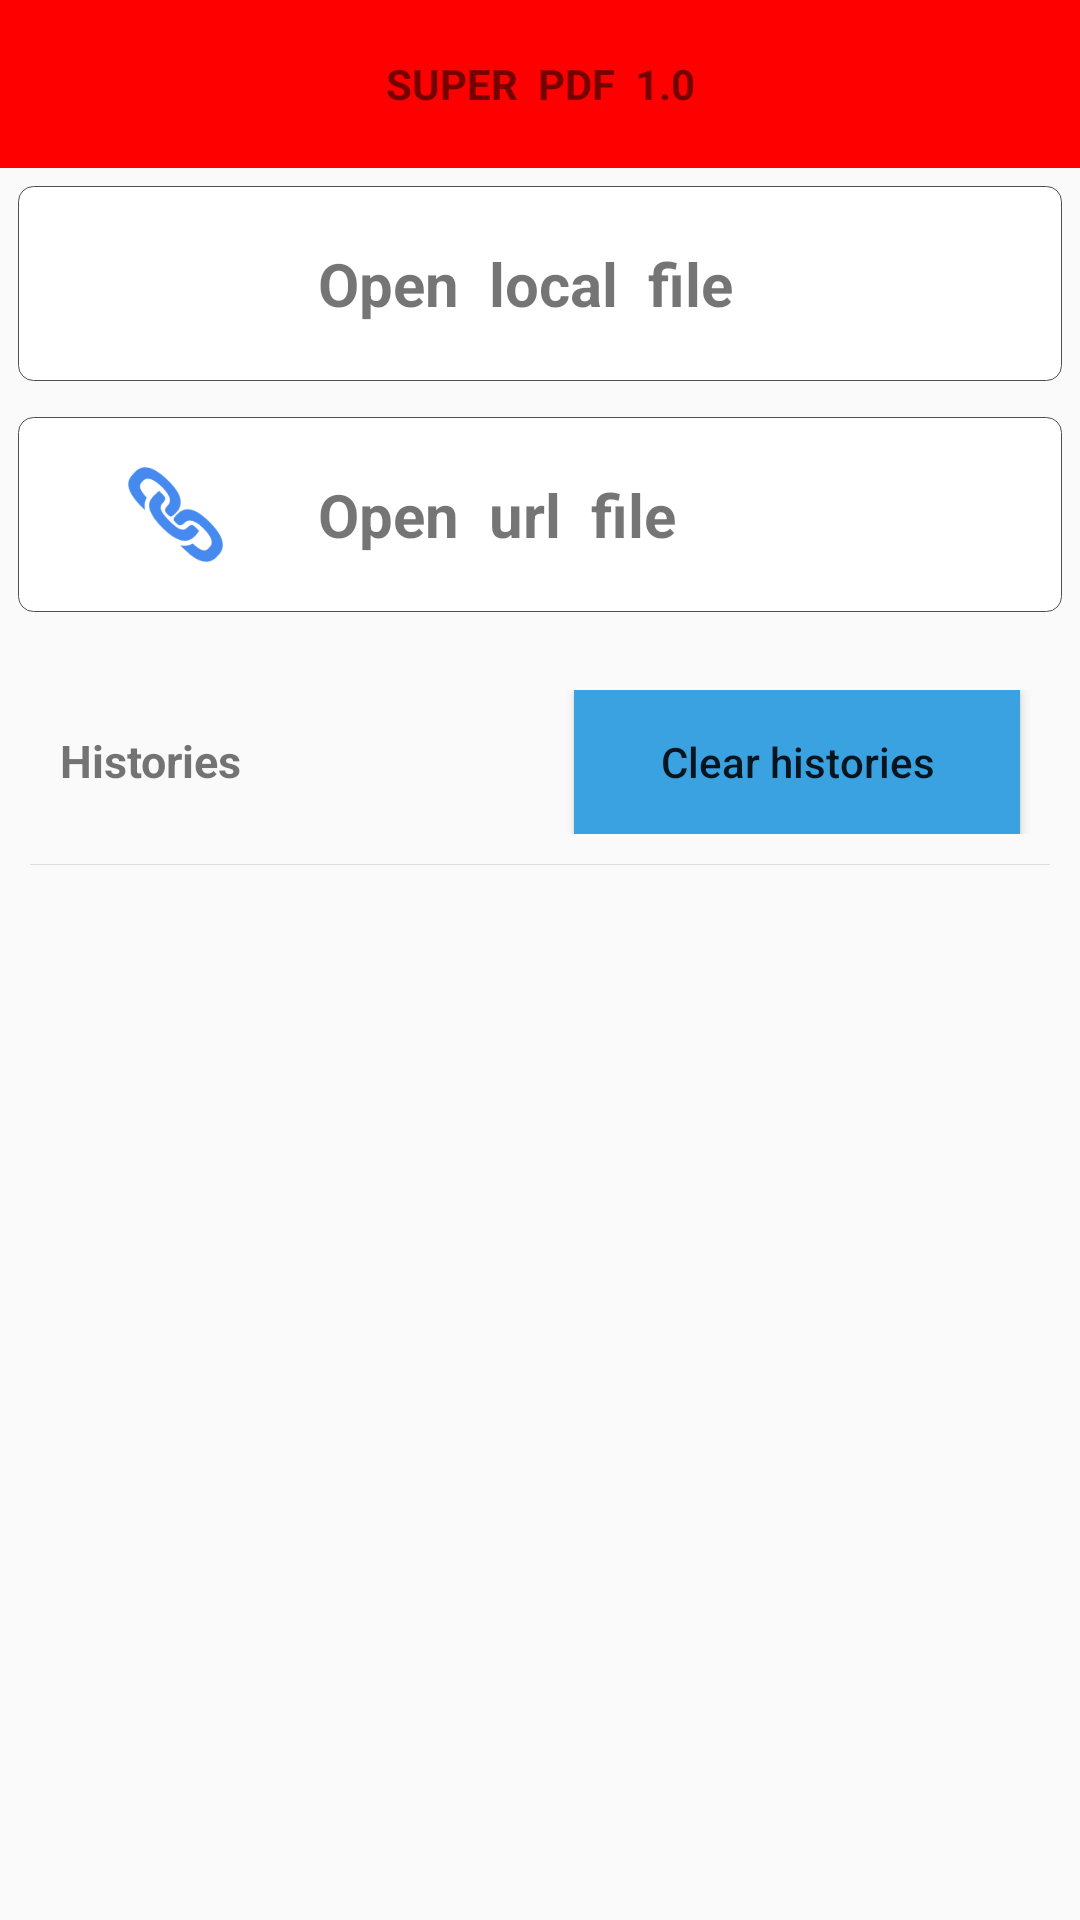

Named icons in this screenshot (1080x1920) and their centers, (x=x, y=y):
link: (x=175, y=514)
